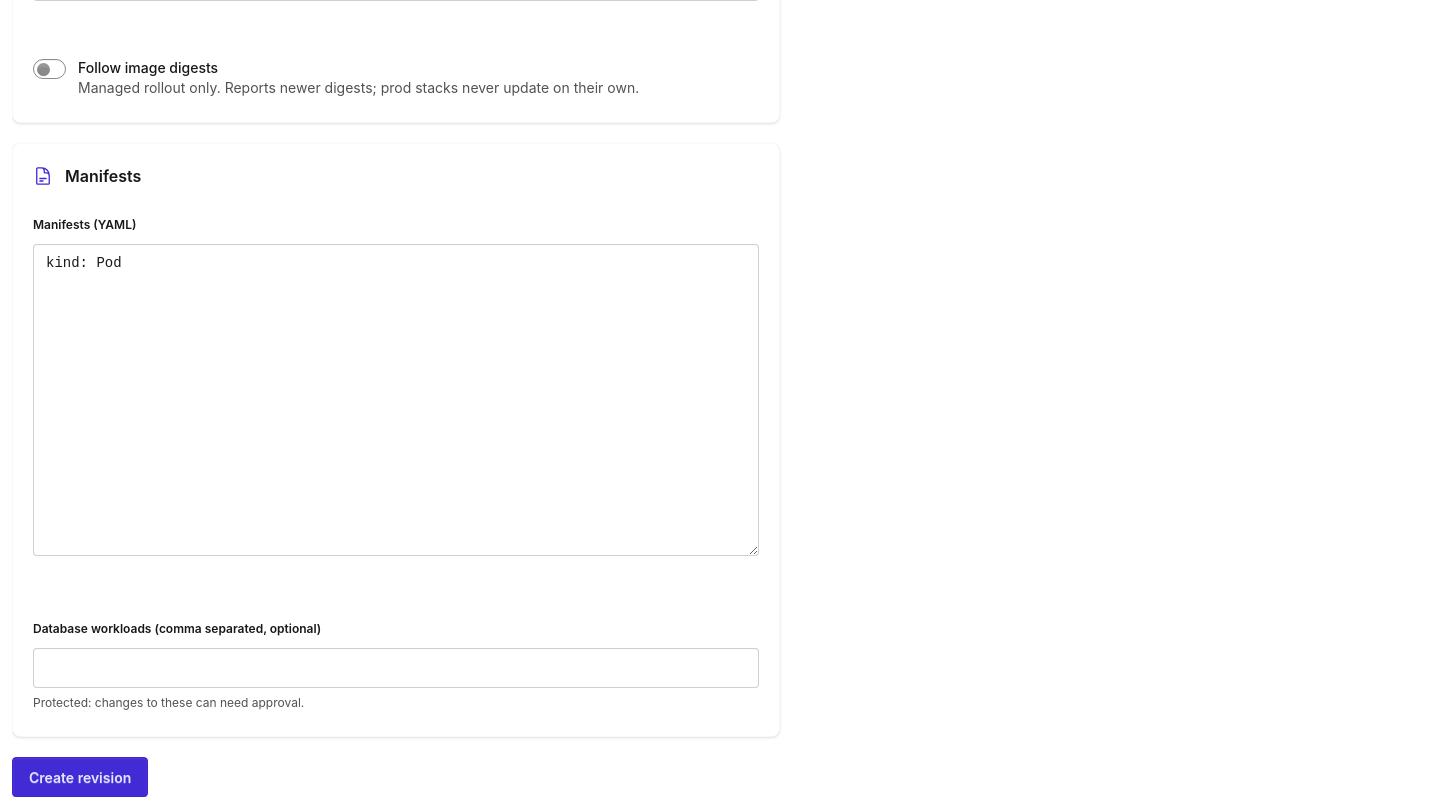
Test: 06: the new revision draft survives a remount via sessionStorage and is posted with the violations shown inline
Earlier steps of the test are not shown.
(page scrolled)
Expected: the text box labelled "Manifests (YAML)" holds "kind: Pod", [33,244,759,556]
Click the button "Create revision".
click(80, 777)  # box [12,757,148,796]
(page scrolled)
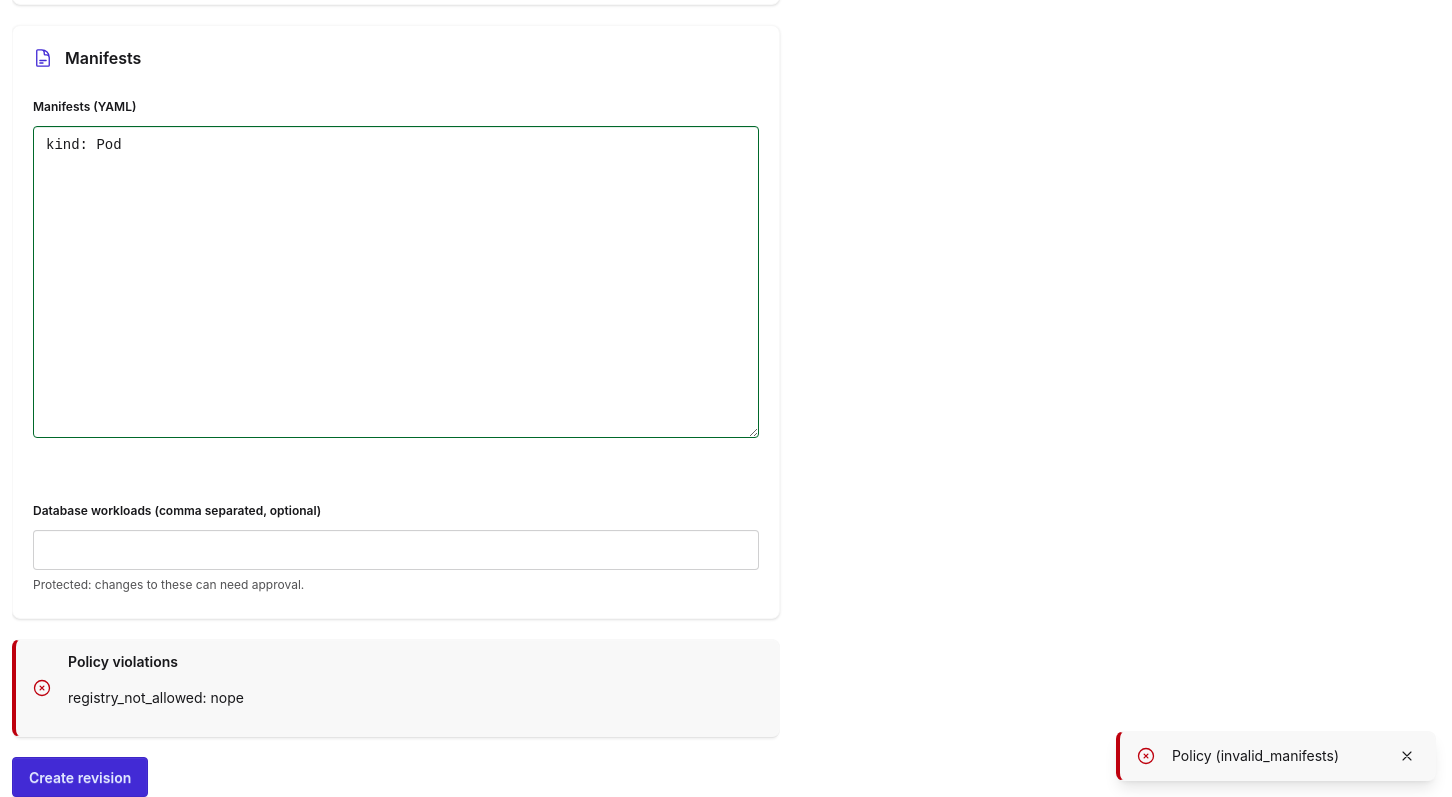
Expected: the list item "registry_not_allowed: nope" is shown, [68,689,244,706]
